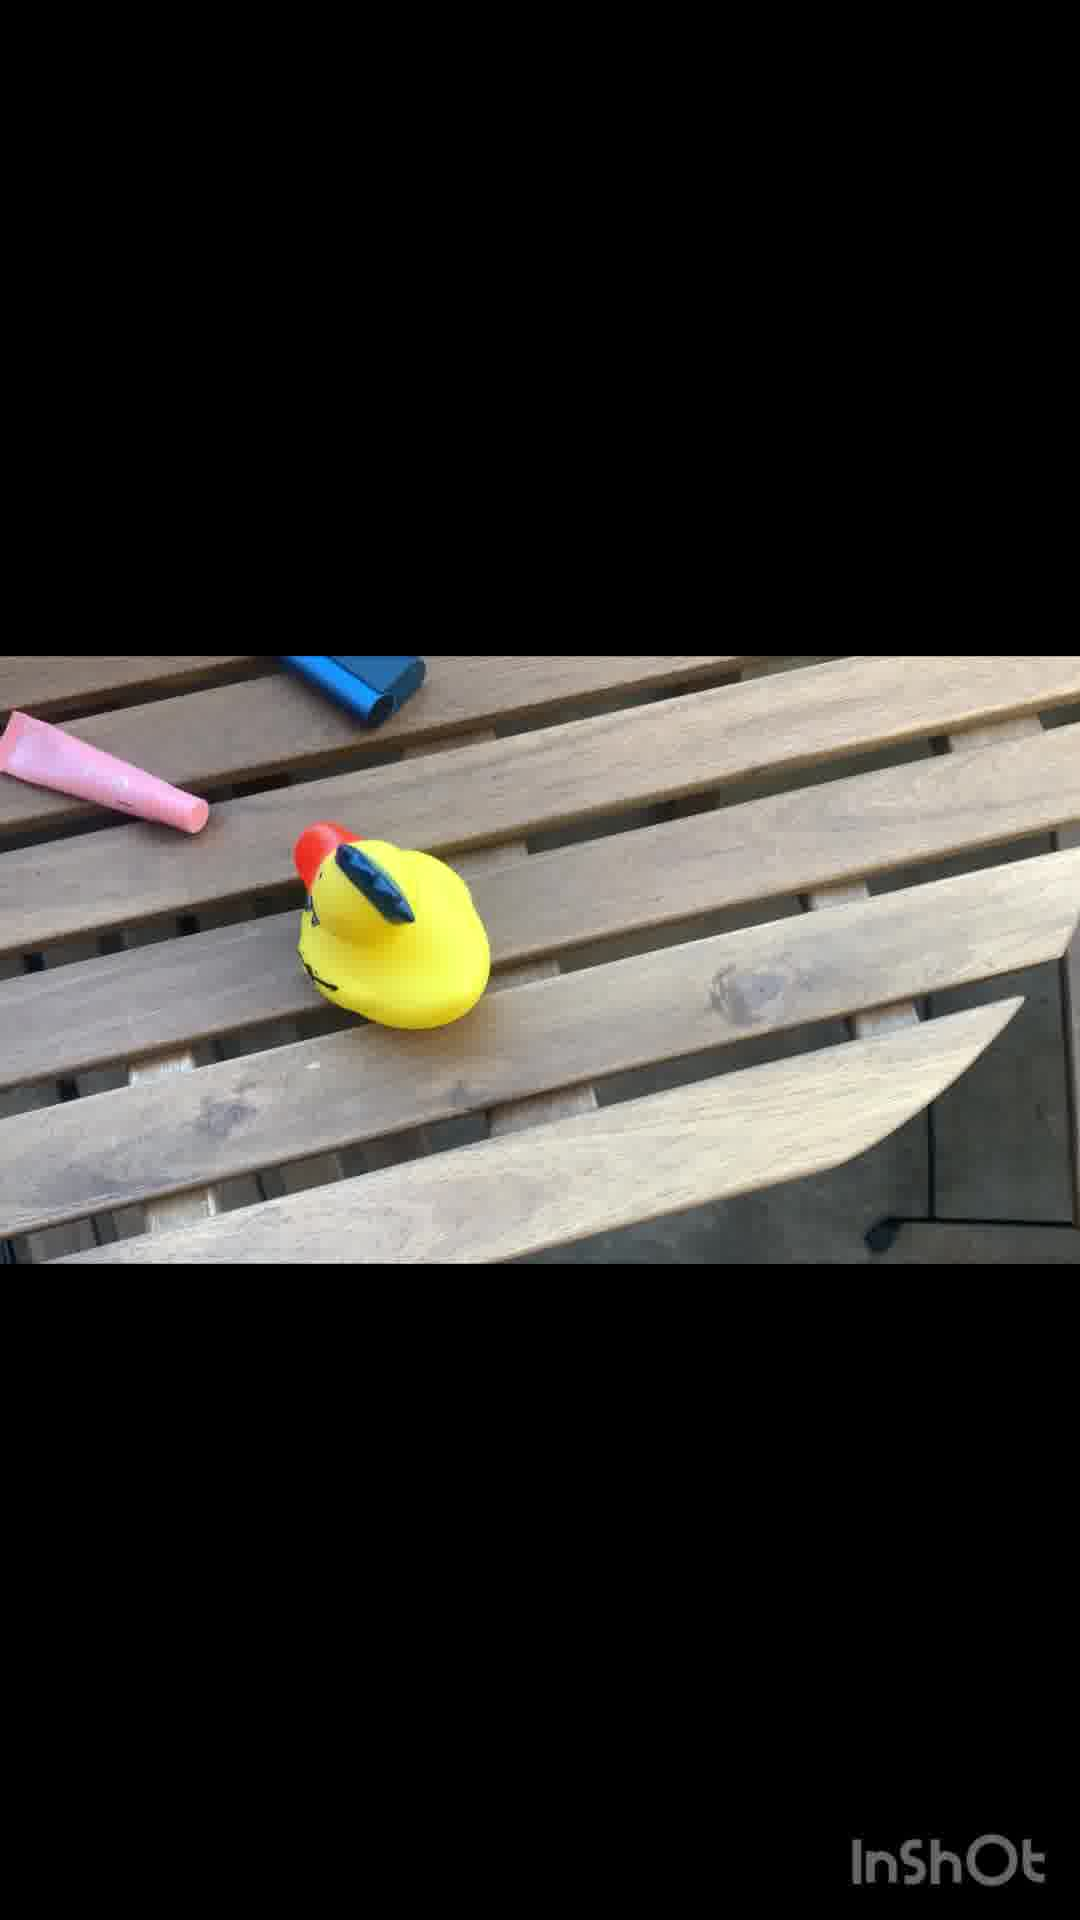duck: (272, 822, 500, 1036)
glo: (244, 644, 431, 727)
lip balm: (1, 713, 218, 847)
